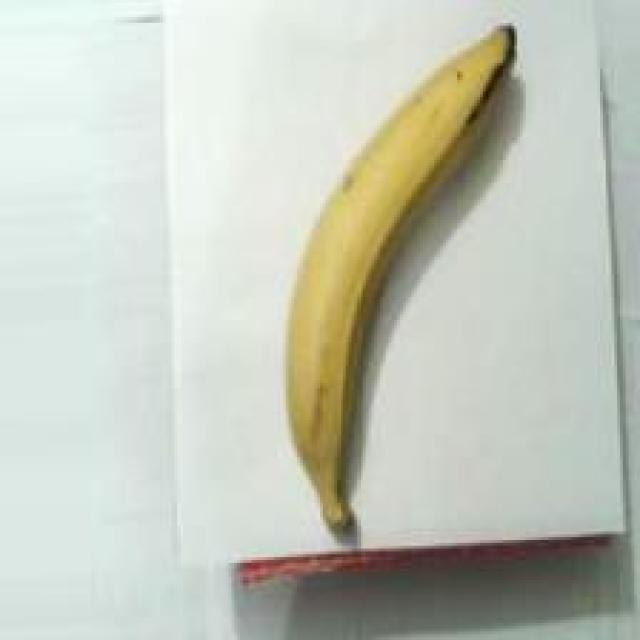banana: (189, 6, 607, 570)
